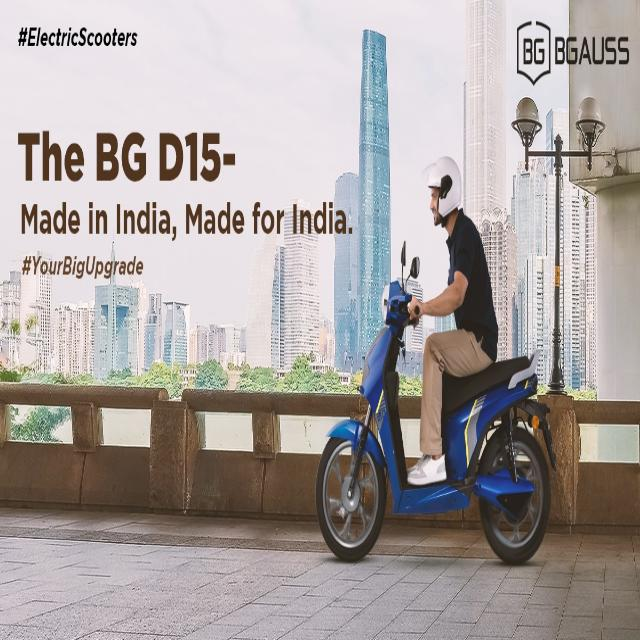motorcycle: (316, 158, 555, 563)
